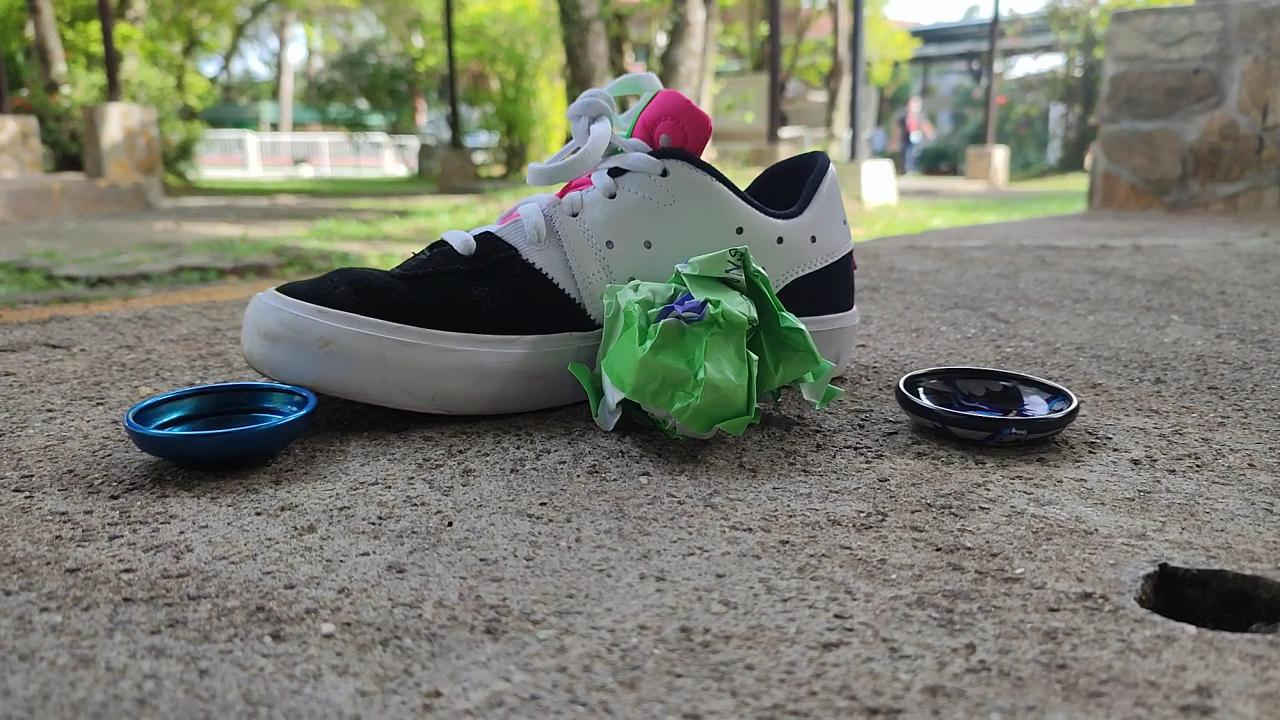Paper: (561, 234, 856, 462)
